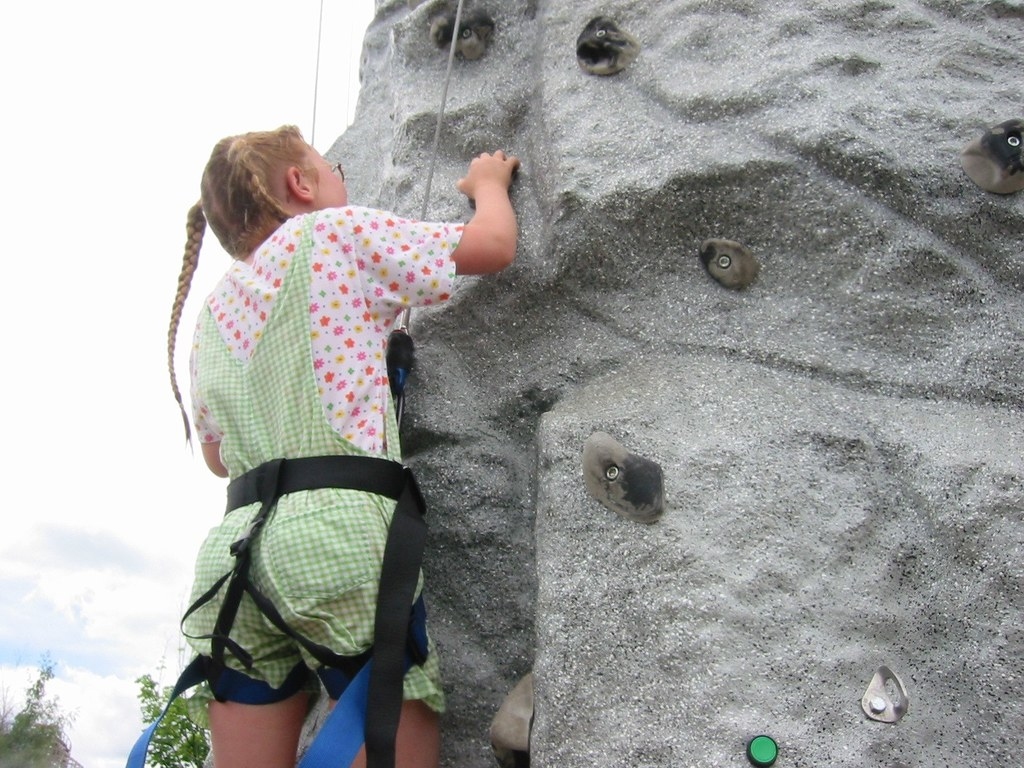Person: (166, 123, 520, 768)
